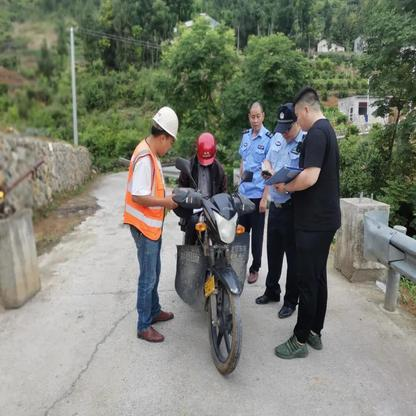target: (175, 130, 257, 379)
